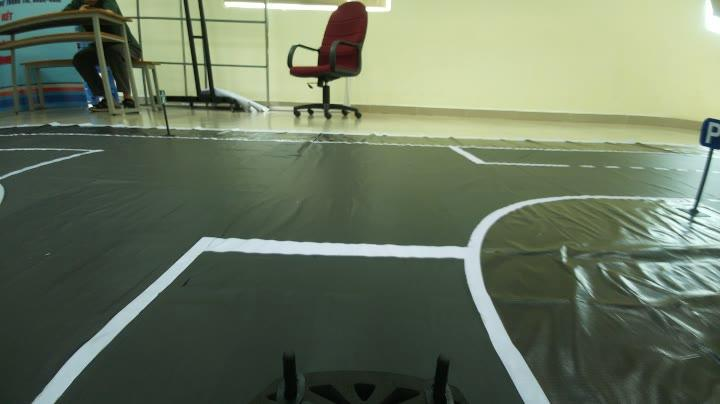parking: (694, 113, 720, 153)
